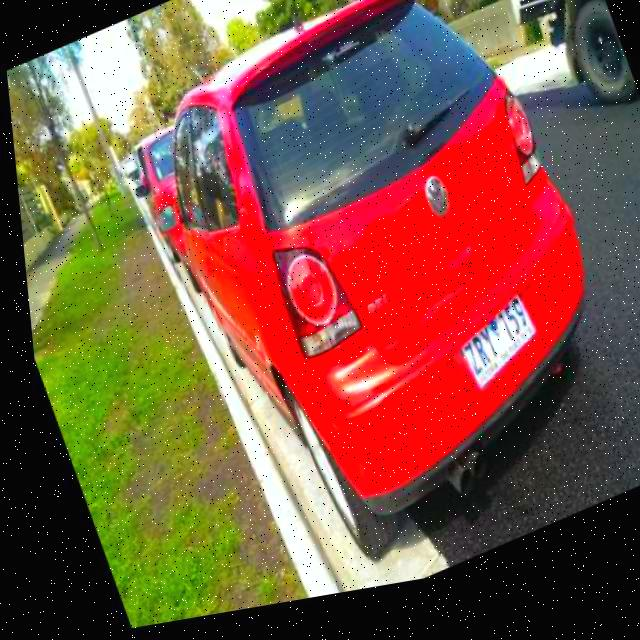license_plate: (438, 304, 540, 411)
